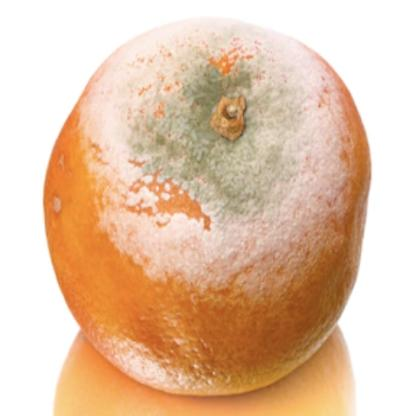fresh: (43, 17, 375, 399)
